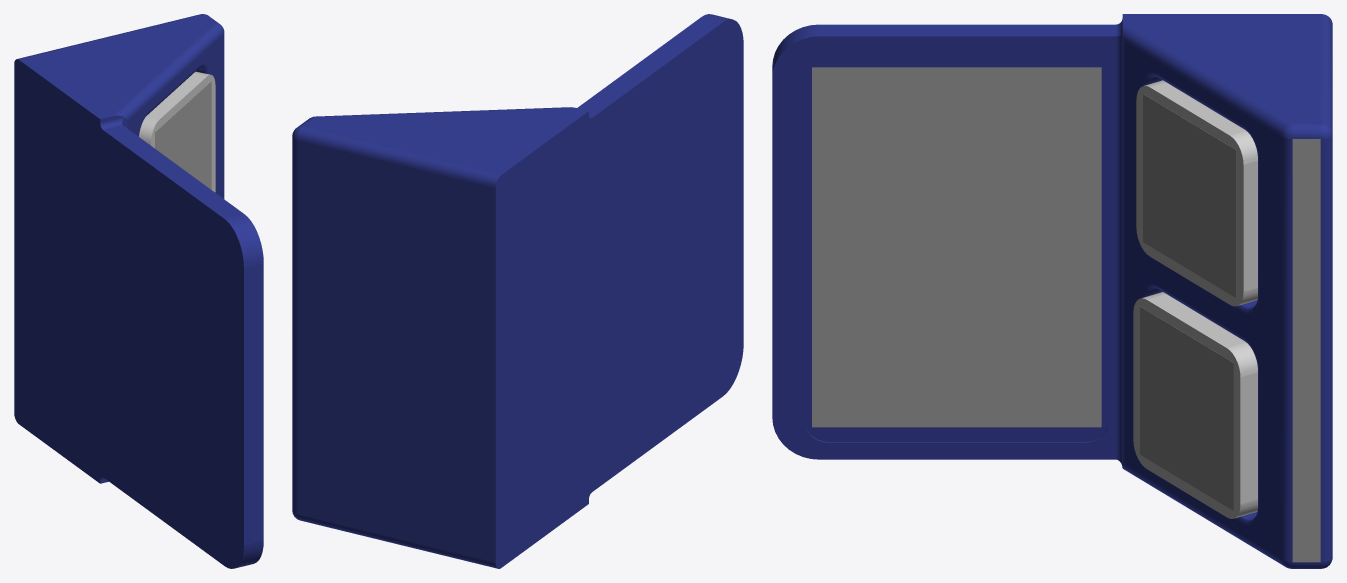
File: Cubi-Base-2.glb
The picture shows the model from 3 angles, left to right: view 1: azimuth 30°, elevation 25°; view 2: azimuth 150°, elevation 25°; view 3: azimuth 270°, elevation 25°; orthographic projection. The views are drawn at different scales.
Visible parts, largest first — view 1: empty_3, empty_10, empty_5; view 2: empty_3; view 3: empty_2, empty_3, empty_10, empty_11, empty_12, empty_7, empty_5.
Part boxes in pixels (<box>): empty_3: <box>14,14,263,568</box>; empty_10: <box>155,81,211,189</box>; empty_5: <box>139,71,215,192</box>; empty_3: <box>292,14,743,568</box>; empty_2: <box>812,67,1101,427</box>; empty_3: <box>772,14,1332,568</box>; empty_10: <box>1143,94,1236,298</box>; empty_11: <box>1140,306,1233,510</box>; empty_12: <box>1292,139,1320,562</box>; empty_7: <box>1133,292,1257,518</box>; empty_5: <box>1136,80,1257,306</box>.
Size of the model in its own units: 0.058 by 0.105 by 0.12.
